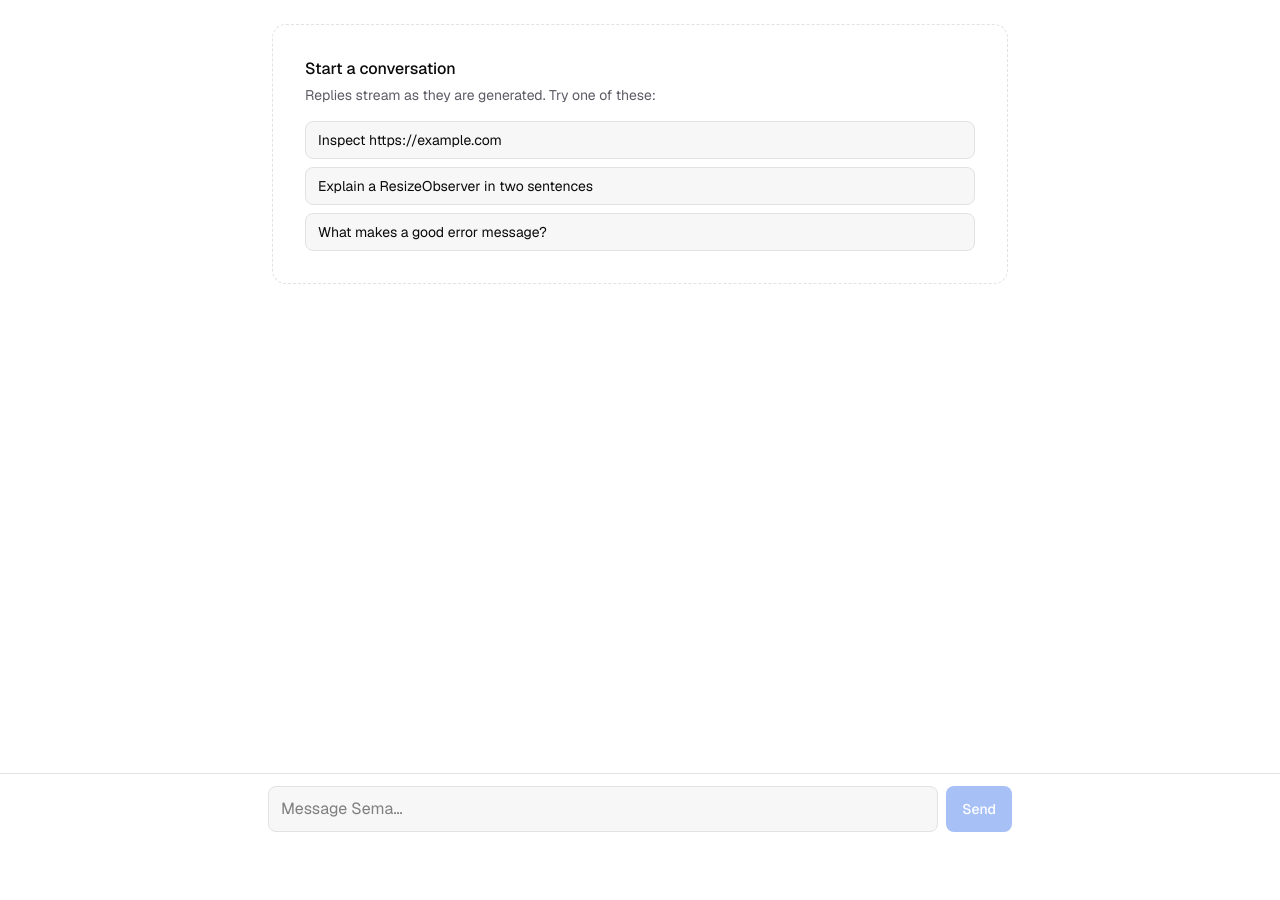
Scenario: Chat — pending state › shows a thinking indicator and a Stop control before the first token
This screenshot has width=1280, height=900.
In the field labelled "Message Sema": [603, 809] box [268,786,938,832], type "hello"
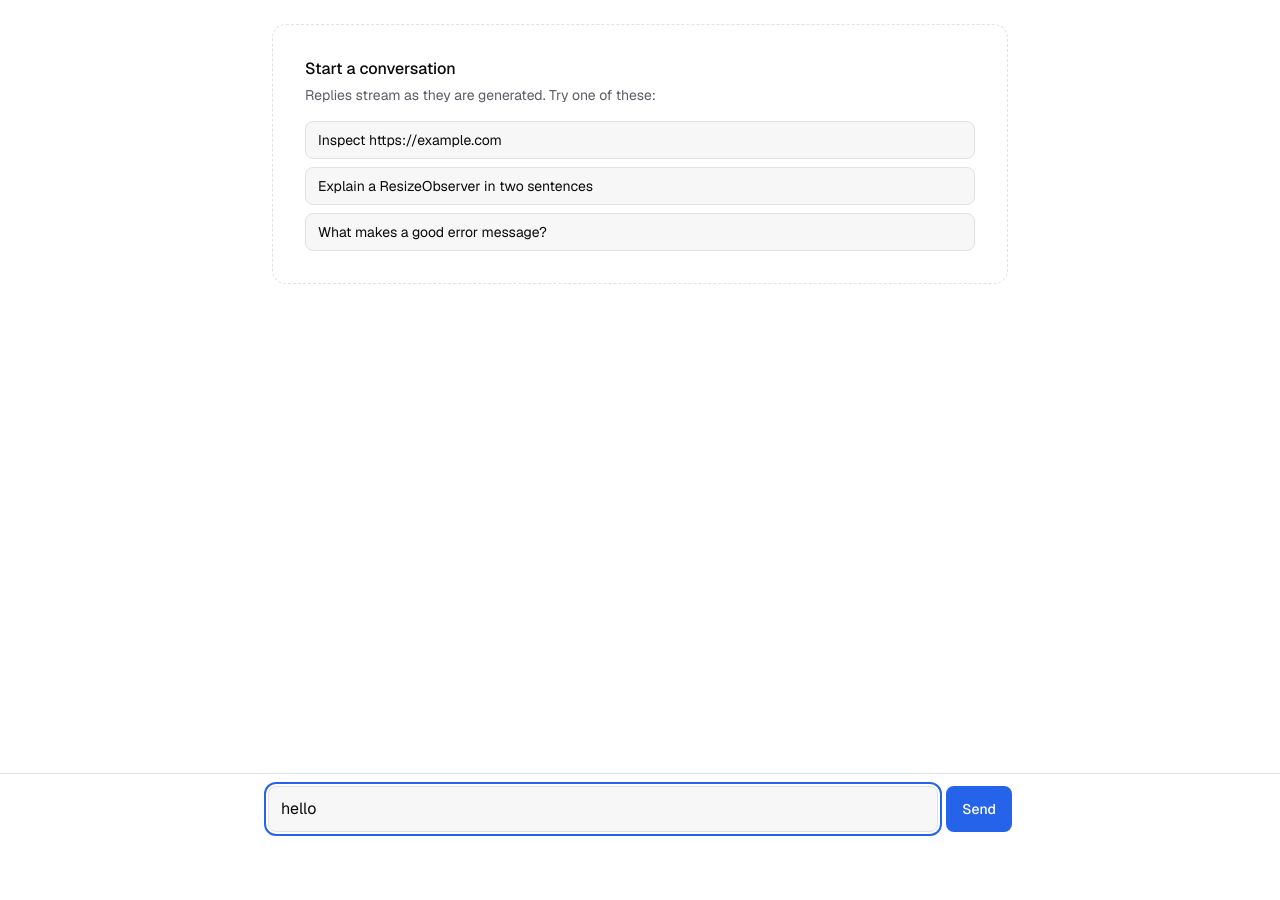
Click the button "Send": [979, 809] box [946,786,1012,832]
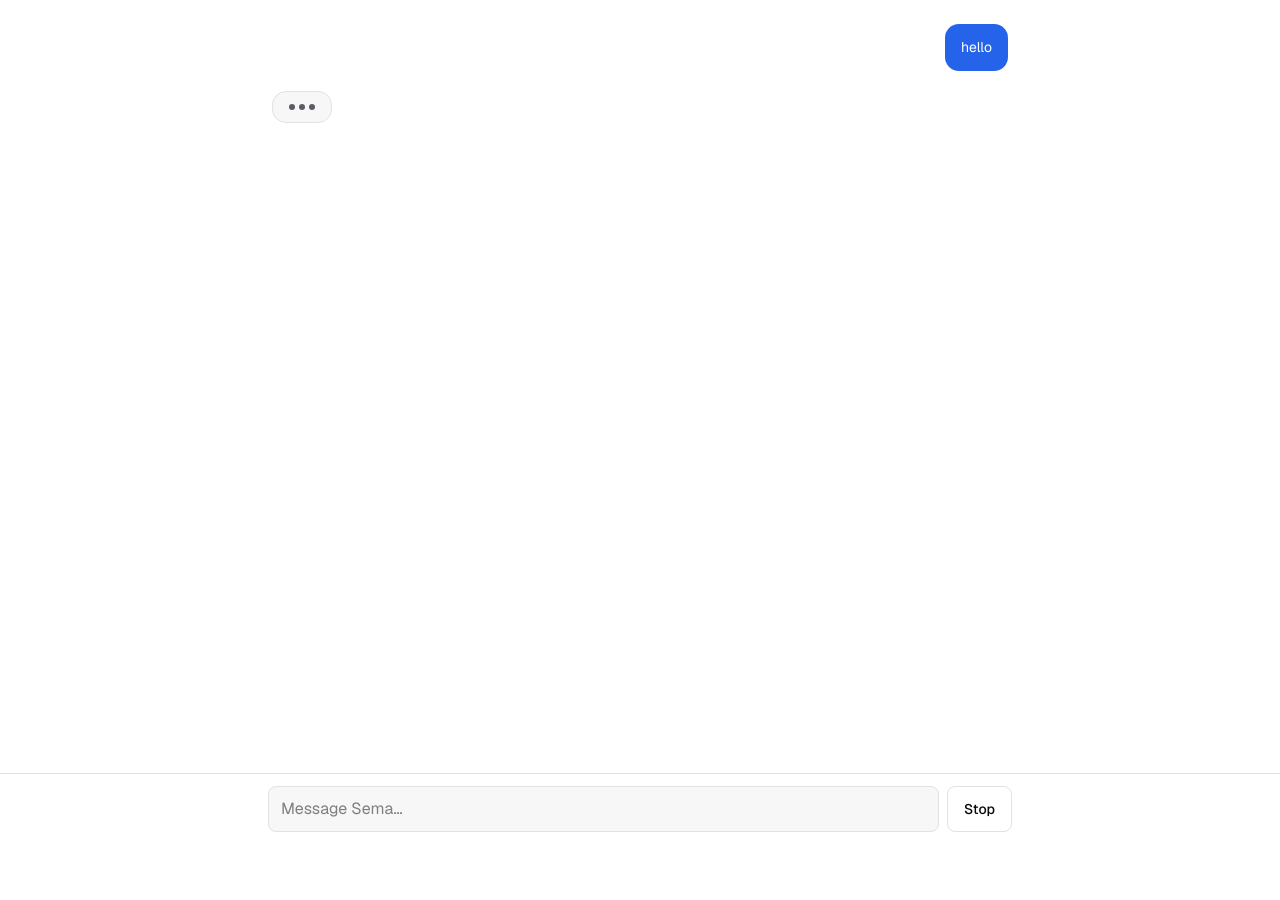
Now the message named "Sema is thinking" is shown, box [289,104,315,110]
Now the button "Stop" is shown, box [947,786,1012,832]
